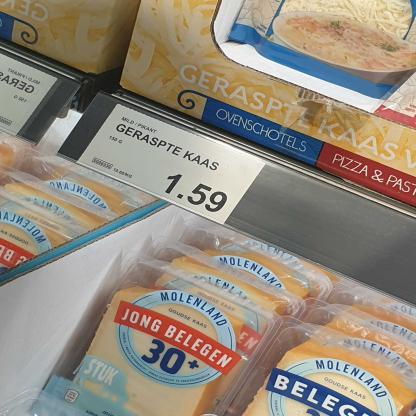prtg: (76, 105, 268, 227), (1, 54, 59, 137)
